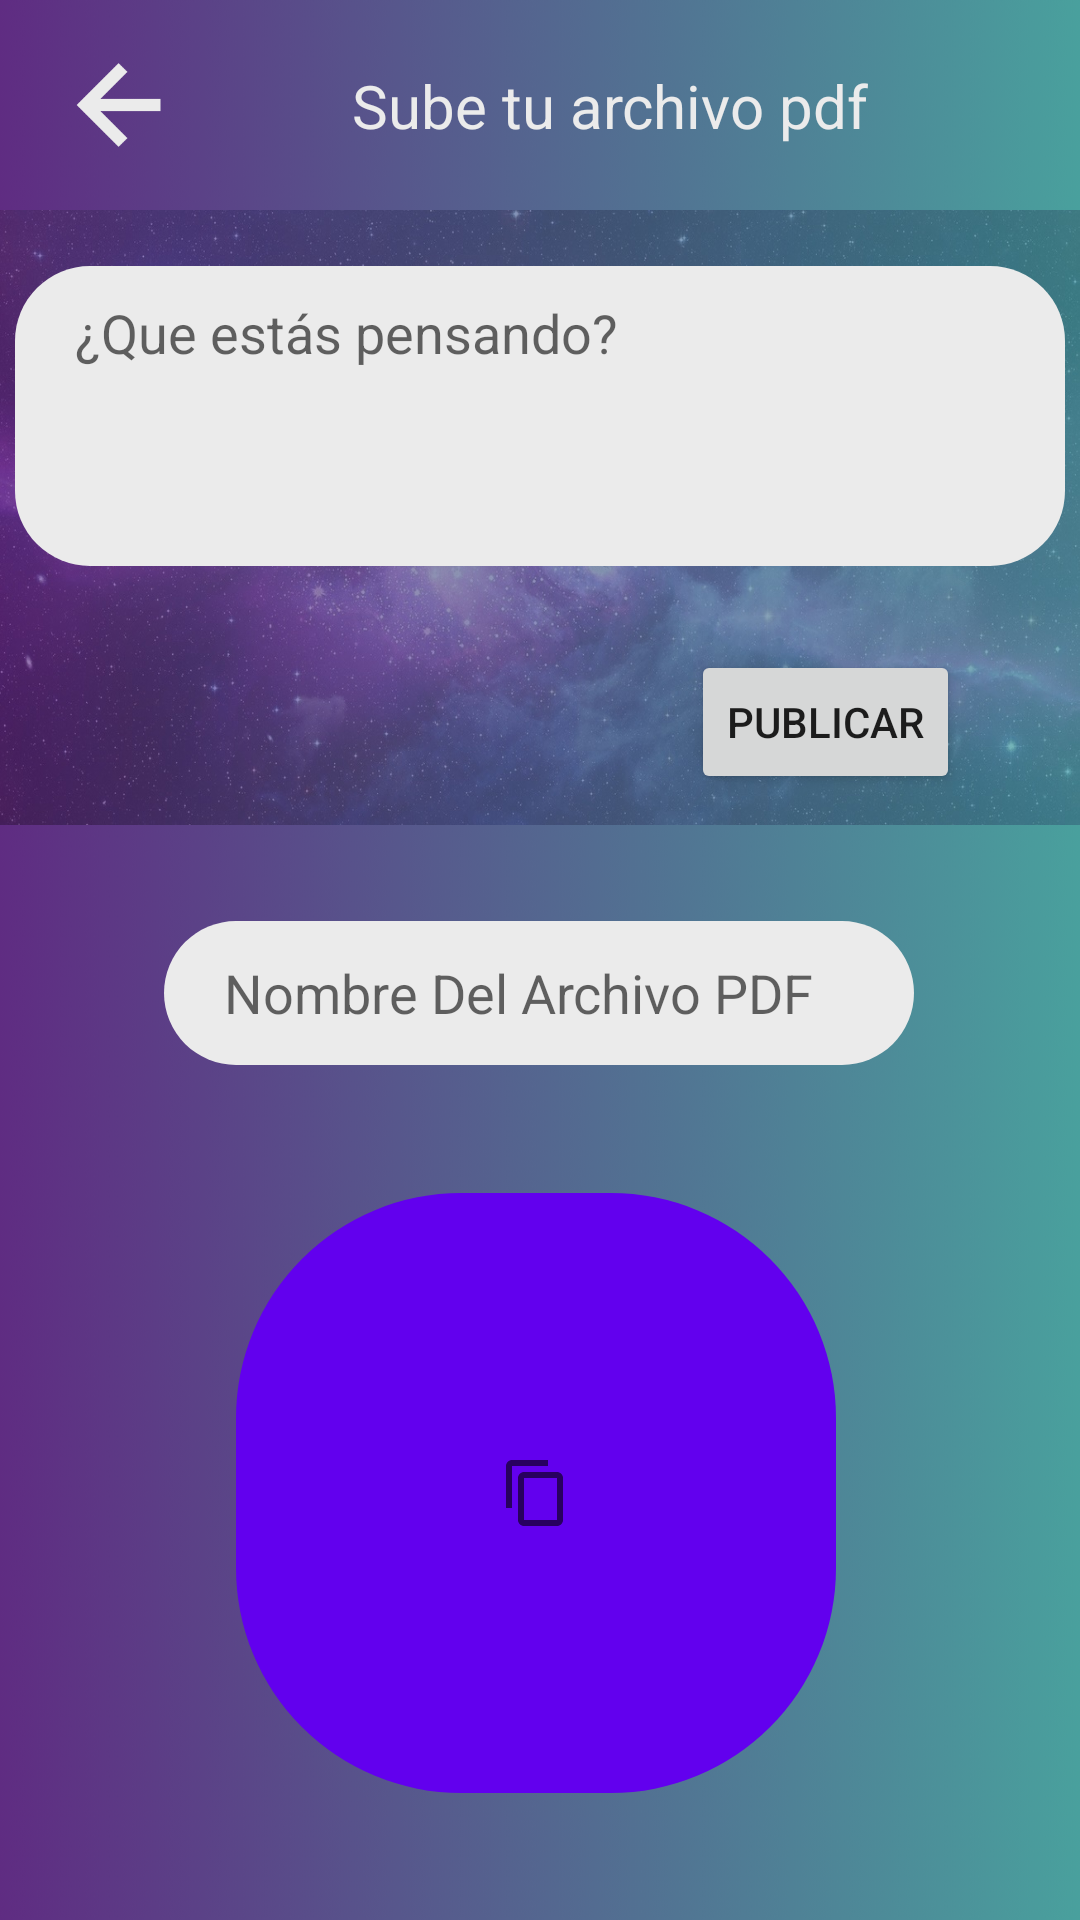

Icon bounding boxes for this 1080 x 1920 phone screenshot, format rect(x1, y1, x2, y2):
left arrow: rect(77, 63, 161, 147)
